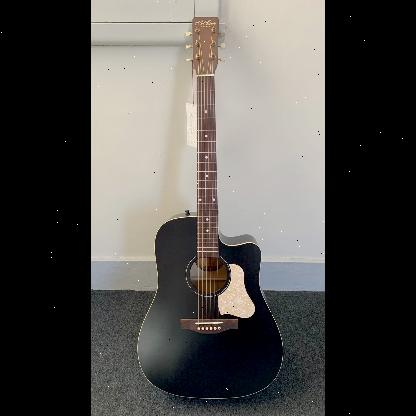acousticguitar: (134, 15, 286, 402)
